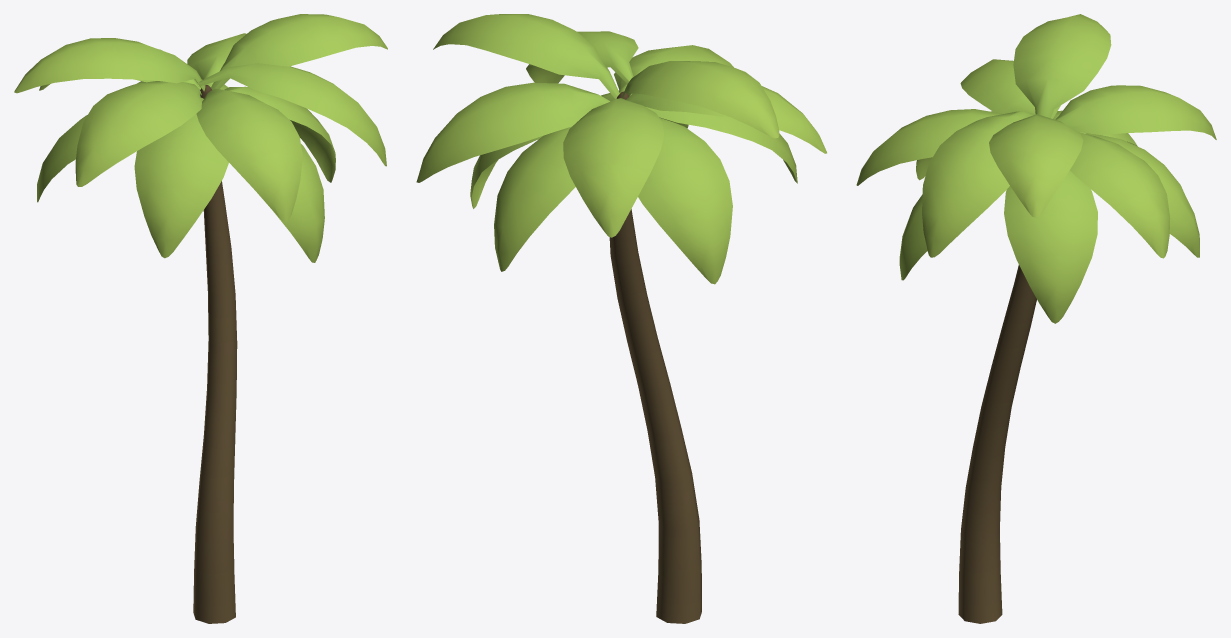
File: WindPalmTree1.FBX
3 views of the same model, side by side, from view 1: azimuth 30°, elevation 25°; view 2: azimuth 150°, elevation 25°; view 3: azimuth 270°, elevation 25° (orthographic). The views are drawn at different scales.
Parts seen in each view (by area): view 1: WindPalmTree1; view 2: WindPalmTree1; view 3: WindPalmTree1.
Boxes of the visible parts, box(x1,y1,x2,y2) form: WindPalmTree1: box(14, 14, 387, 623); WindPalmTree1: box(416, 14, 826, 623); WindPalmTree1: box(856, 14, 1216, 623).
Bounding box in the file's own units: 348 × 314 × 534.
